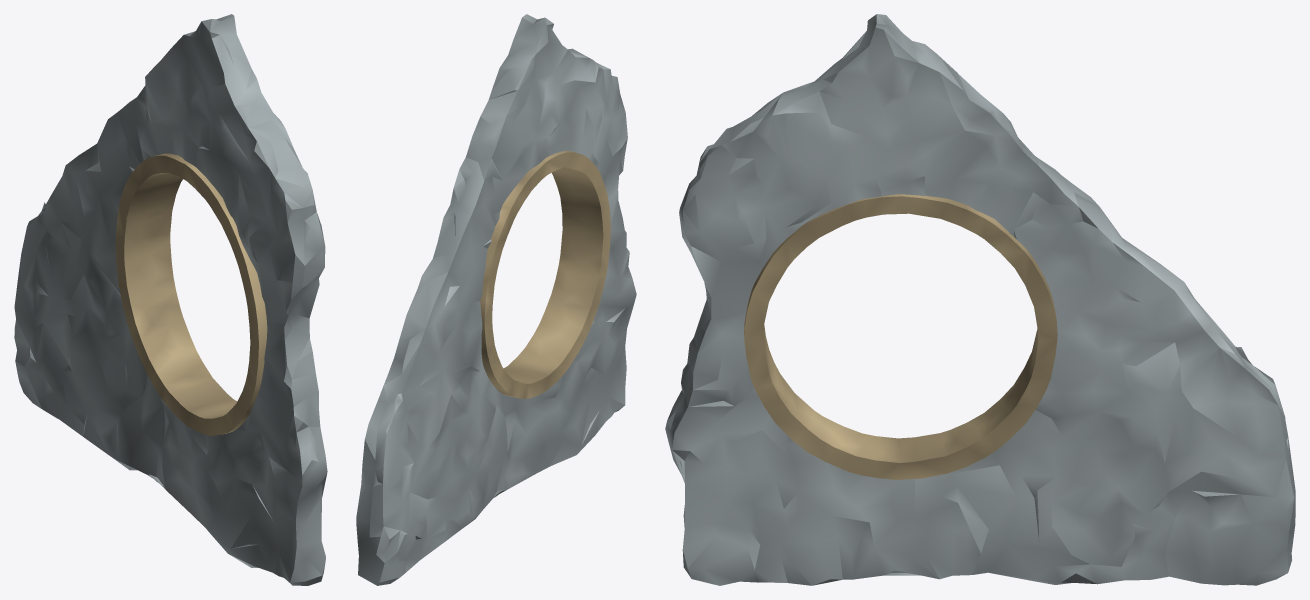
Rendered from Wall01.fbx.
3 renders of one model, left to right at view 1: azimuth 30°, elevation 25°; view 2: azimuth 150°, elevation 25°; view 3: azimuth 270°, elevation 25°, orthographic. The views are drawn at different scales.
Parts seen in each view (by area): view 1: Wall; view 2: Wall; view 3: Wall.
Part boxes in pixels (x1,y1,x2,y2): Wall: [14, 14, 327, 585]; Wall: [356, 14, 636, 585]; Wall: [665, 14, 1295, 585].
Bounding box in the file's own units: 33.07 × 355 × 359.
